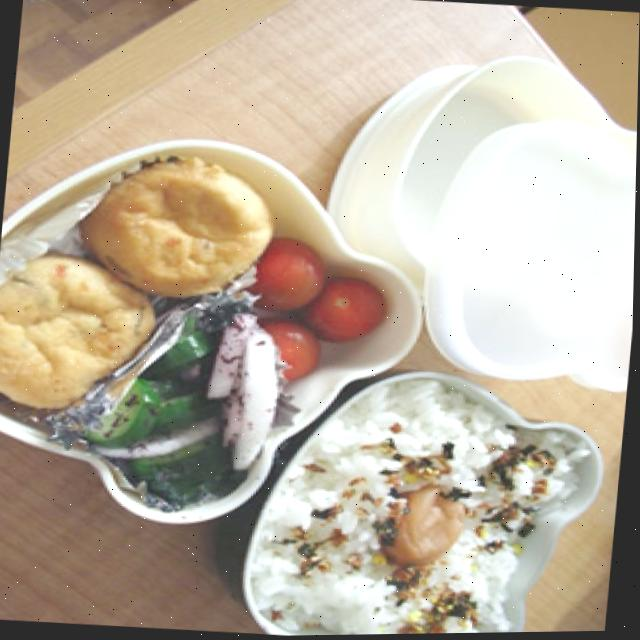熟制海鲜: (0, 114, 308, 410)
